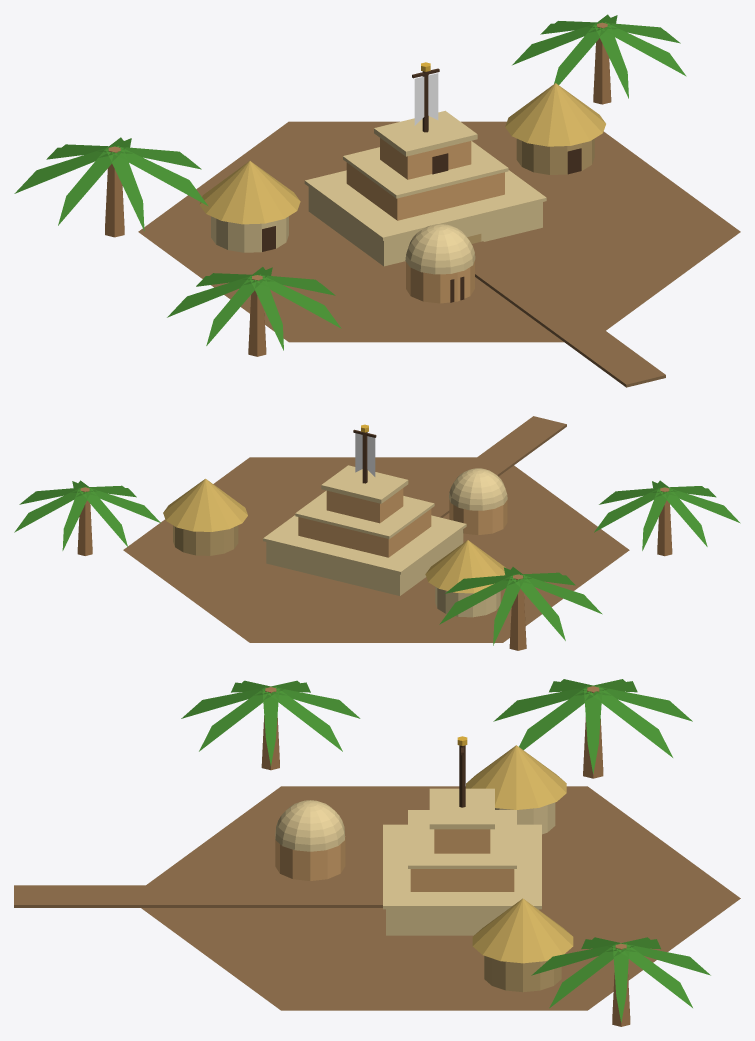
File: city_0_1.fbx
3 renders of one model, top to bottom at view 1: azimuth 30°, elevation 25°; view 2: azimuth 150°, elevation 25°; view 3: azimuth 270°, elevation 25°, orthographic. The views are drawn at different scales.
Parts seen in each view (by area): view 1: city_0_1; view 2: city_0_1; view 3: city_0_1.
Boxes of the visible parts, left/top/right/bottom form: city_0_1: left=14, top=14, right=740, bottom=387; city_0_1: left=14, top=416, right=740, bottom=650; city_0_1: left=14, top=679, right=740, bottom=1026.
Bounding box in the file's own units: 268 × 60.4 × 249.
